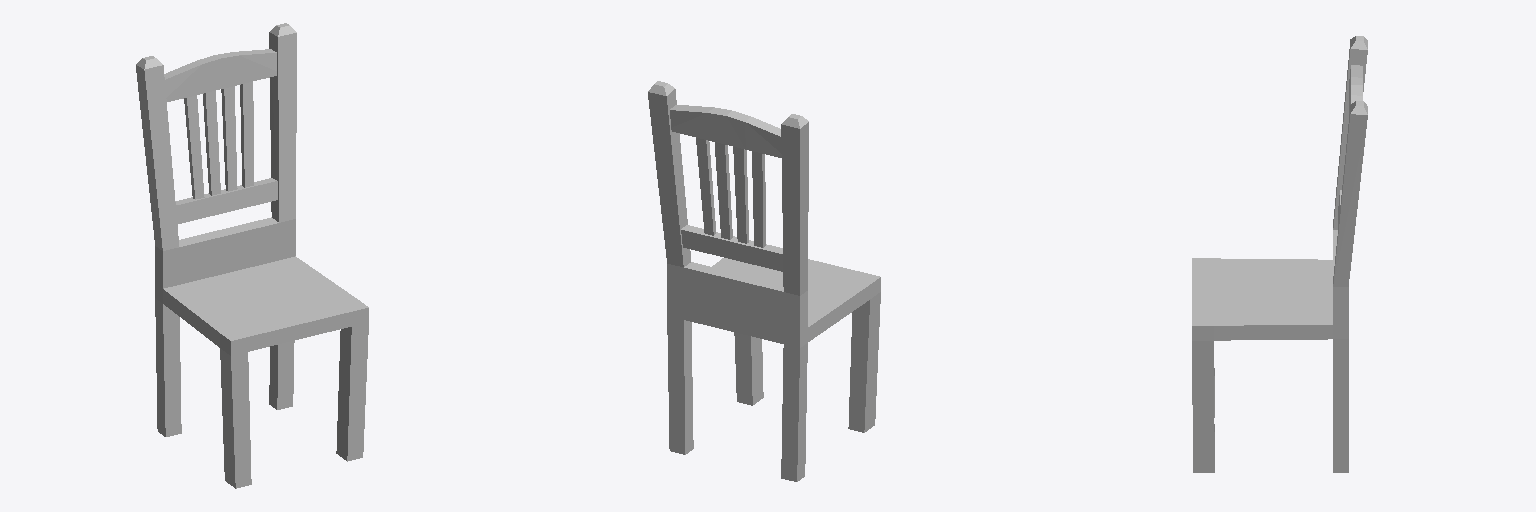
Rendered from Chair_Banquet_geo.obj.
3 renders of one model, left to right at view 1: azimuth 30°, elevation 25°; view 2: azimuth 150°, elevation 25°; view 3: azimuth 270°, elevation 25°, orthographic.
Visible parts, largest first — view 1: REDO:Cube; view 2: REDO:Cube; view 3: REDO:Cube.
Part boxes in pixels (left/top/right/bottom): REDO:Cube: left=136, top=23, right=368, bottom=488; REDO:Cube: left=648, top=81, right=880, bottom=481; REDO:Cube: left=1192, top=36, right=1367, bottom=472.
Size of the model in its own units: 10.03 by 23.25 by 10.01.